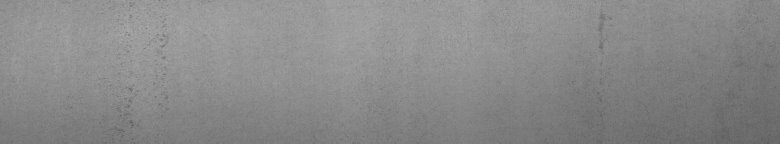ib: (112, 33, 169, 136)
